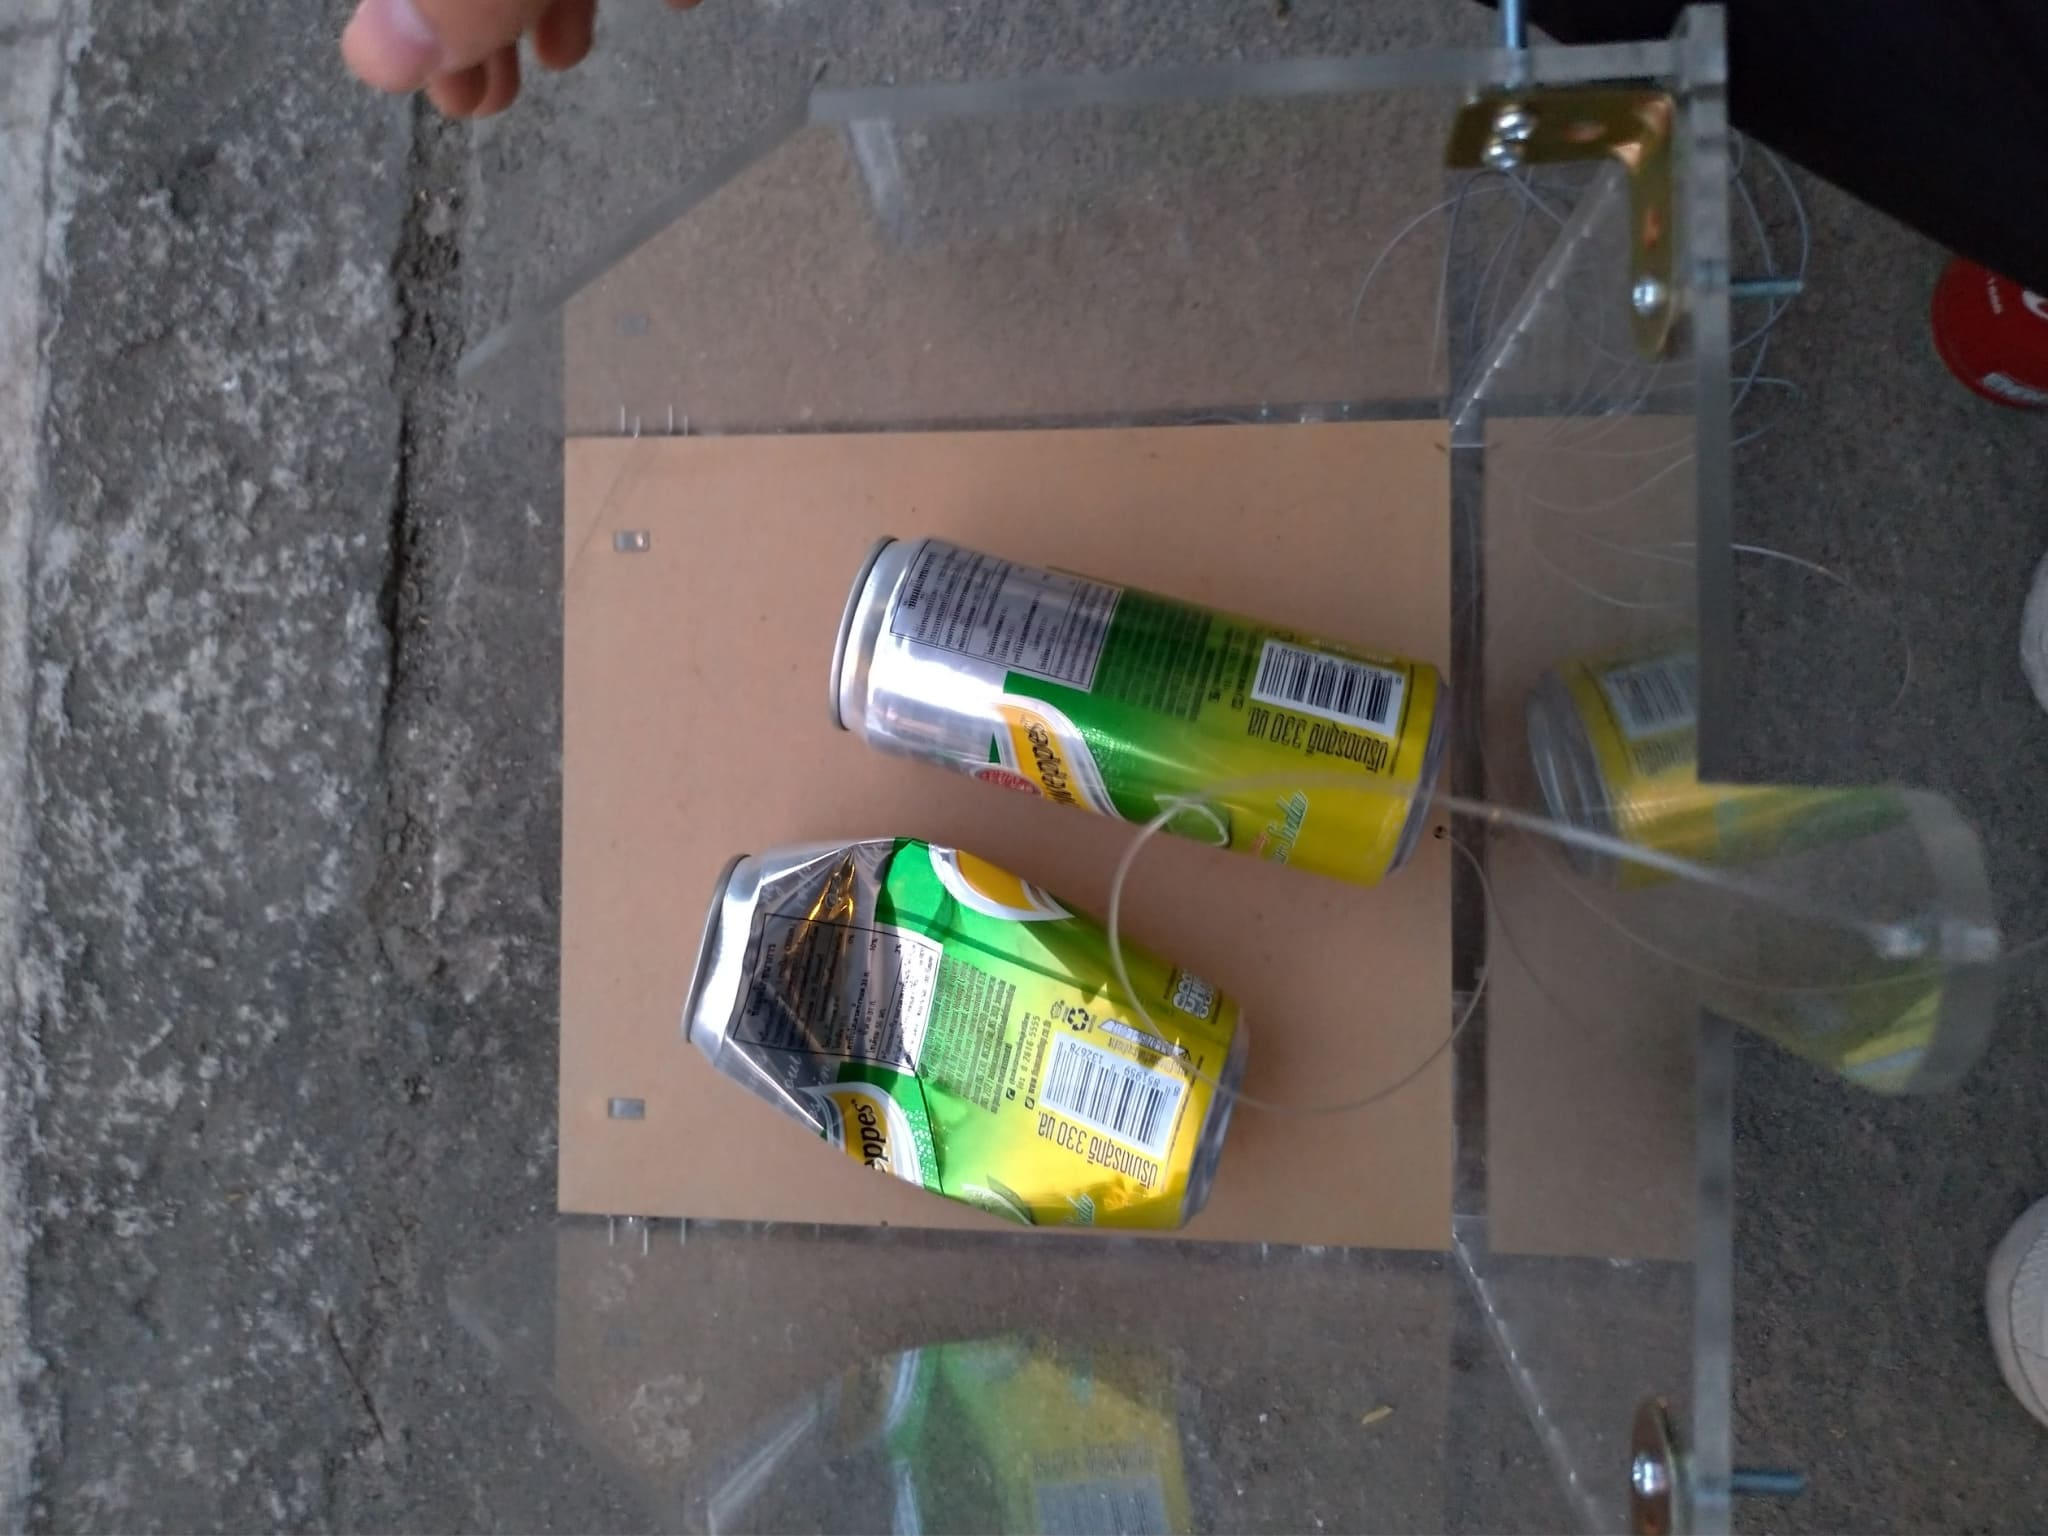AlCan: (676, 841, 1248, 1228), (829, 532, 1450, 883)
